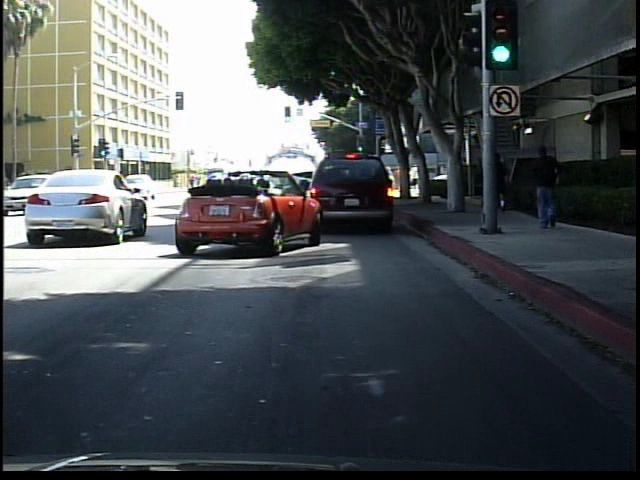person: (530, 140, 563, 232), (482, 147, 511, 217)
